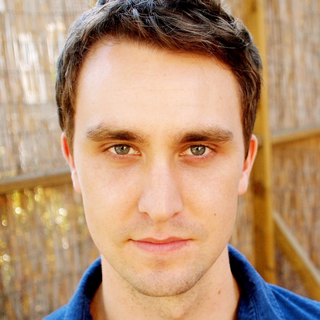eye: (96, 138, 144, 162), (176, 140, 221, 161)
